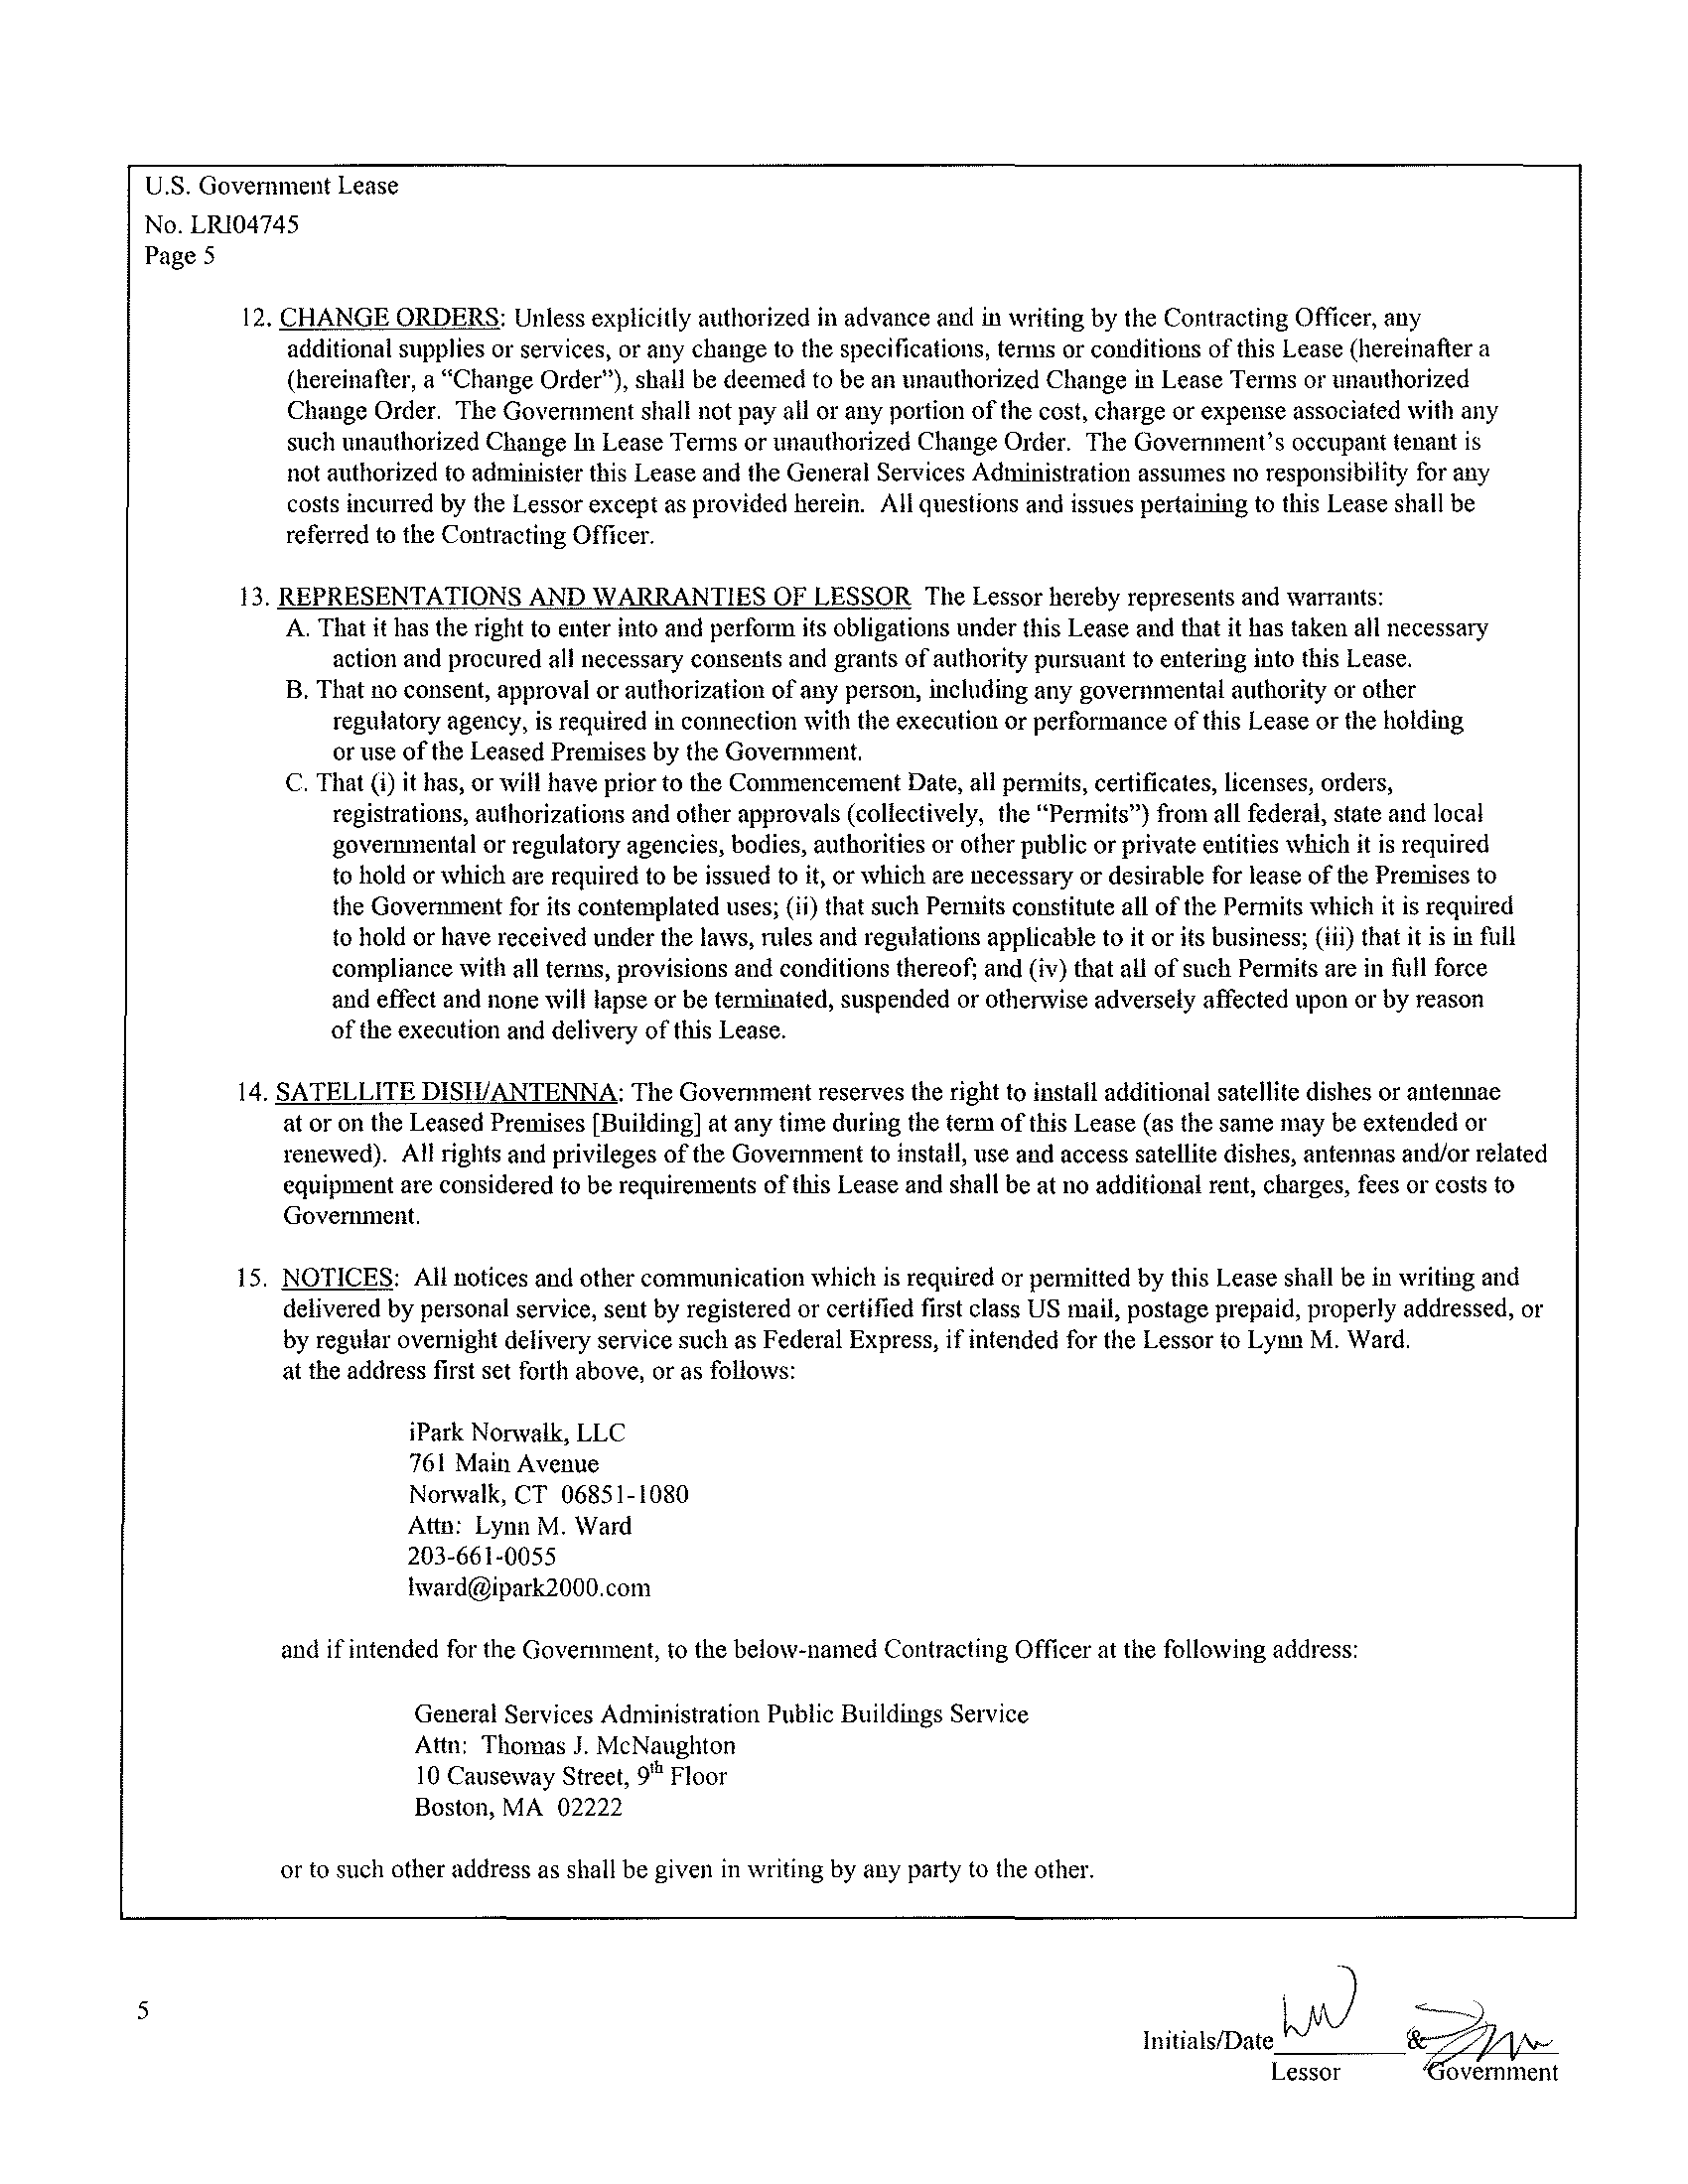handwritten: (1257, 1955, 1580, 2063)
